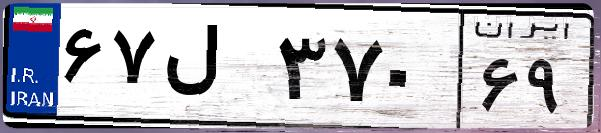0: (385, 28, 445, 110)
3: (270, 28, 330, 110)
6: (57, 26, 110, 100), (475, 38, 525, 113)
7: (330, 28, 385, 110), (110, 28, 158, 98)
9: (525, 38, 570, 115)
ل: (158, 20, 270, 120)
